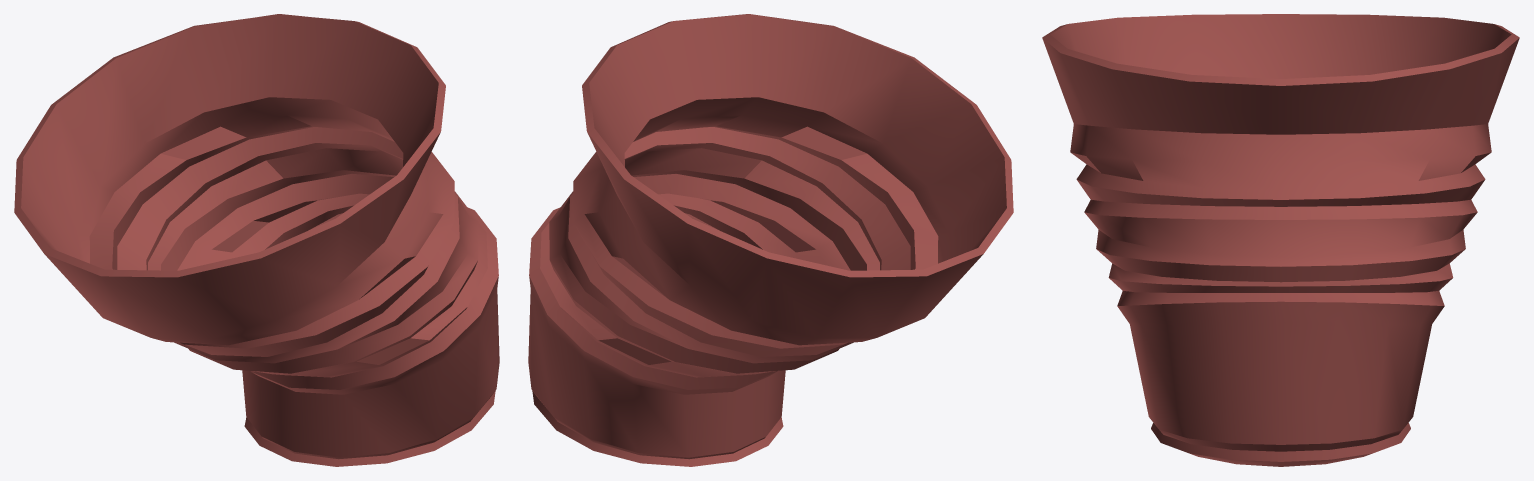
File: VasoPlastico_01.fbx
3 views of the same model, side by side, from view 1: azimuth 30°, elevation 25°; view 2: azimuth 150°, elevation 25°; view 3: azimuth 270°, elevation 25° (orthographic). The views are drawn at different scales.
Visible parts, largest first — view 1: VasoPlastico_01; view 2: VasoPlastico_01; view 3: VasoPlastico_01.
Part boxes in pixels (bbox=[...]): VasoPlastico_01: bbox=[14, 14, 499, 466]; VasoPlastico_01: bbox=[528, 14, 1013, 466]; VasoPlastico_01: bbox=[1042, 14, 1519, 466].
Bounding box in the file's own units: 32.68 × 25.85 × 29.23.
